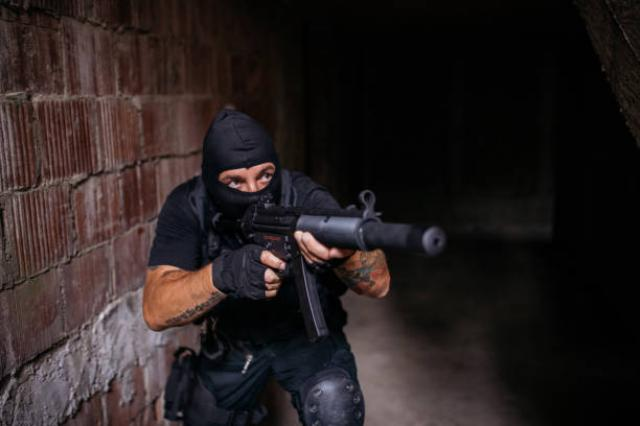other: (154, 116, 388, 420)
